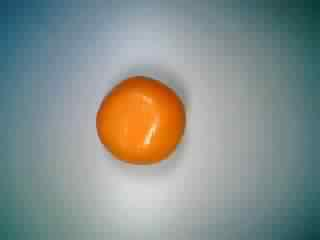orange: (90, 71, 187, 169)
